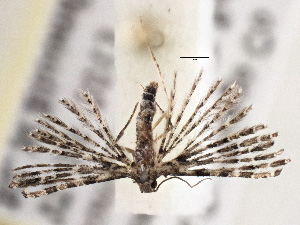Alucitidae: (5, 41, 290, 200)
moth: (7, 43, 292, 202)
